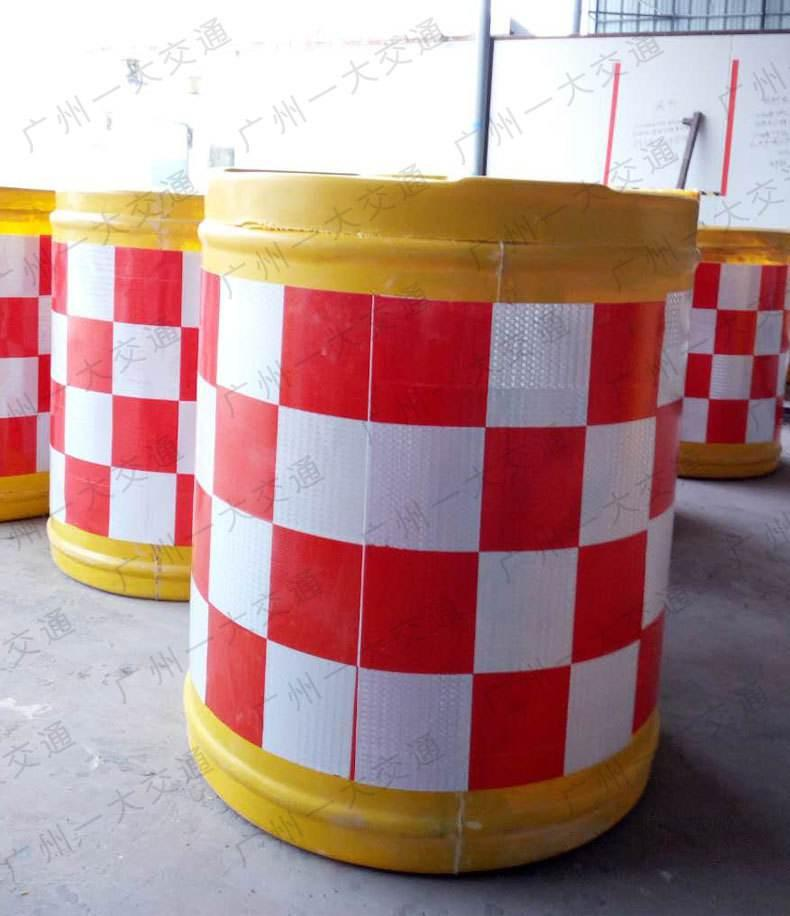sign: (188, 148, 686, 860)
